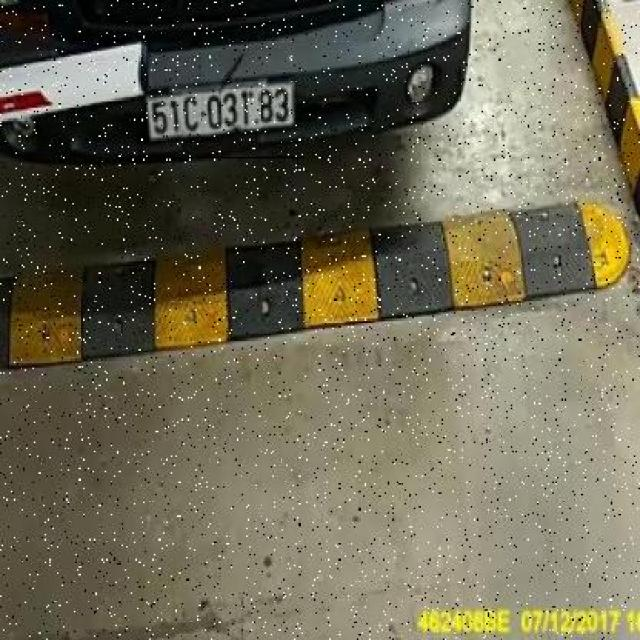number_plate: (138, 73, 304, 158)
